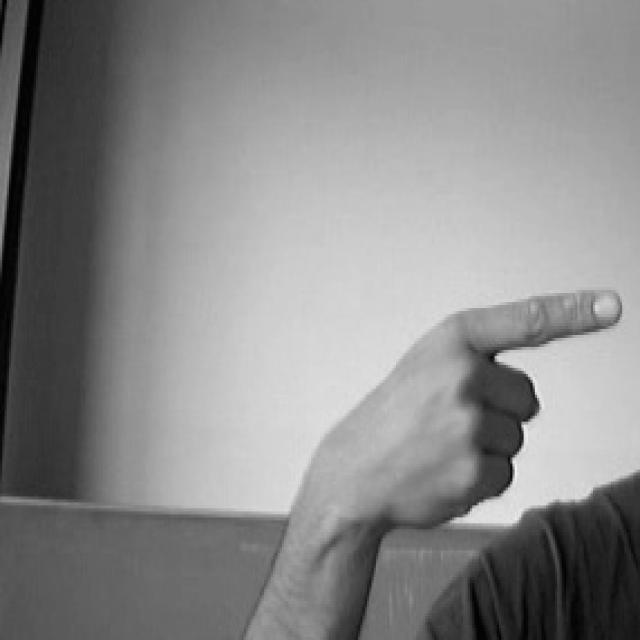G: (273, 257, 640, 574)
